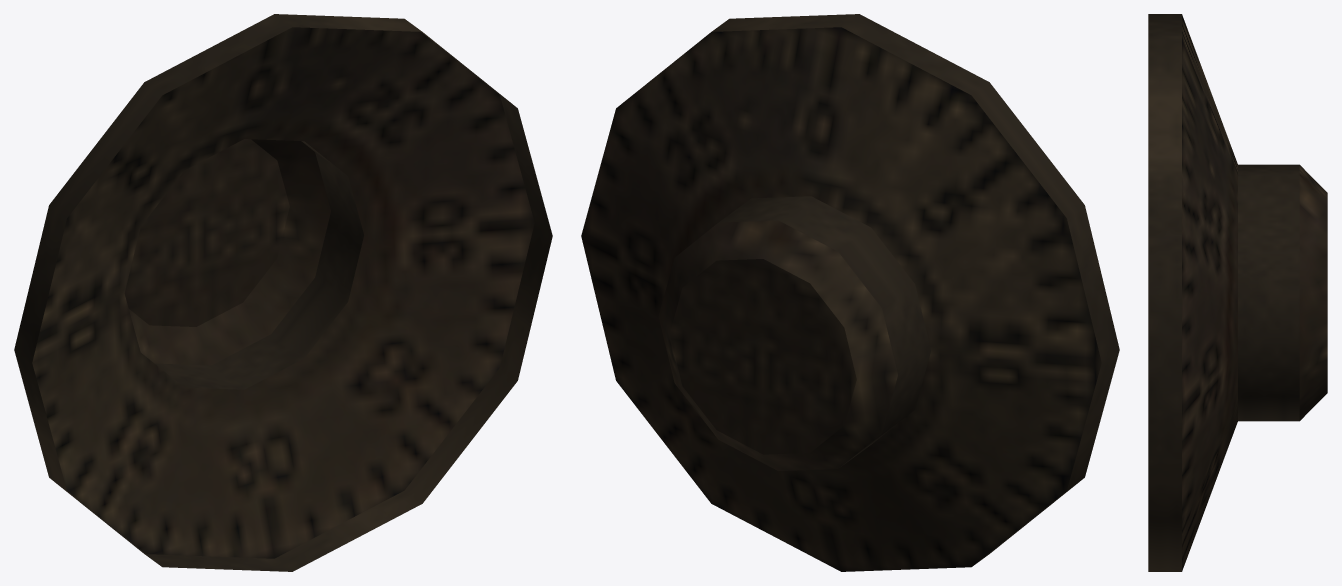
The model's file is padlock_3_knob.obj.
3 views of the same model, side by side, from view 1: azimuth 30°, elevation 25°; view 2: azimuth 150°, elevation 25°; view 3: azimuth 270°, elevation 25° (orthographic). The views are drawn at different scales.
Visible parts, largest first — view 1: padlock_3_knob; view 2: padlock_3_knob; view 3: padlock_3_knob.
Boxes of the visible parts, x1,y1,x2,y2 form: padlock_3_knob: (14, 14, 552, 571); padlock_3_knob: (581, 14, 1119, 571); padlock_3_knob: (1148, 14, 1327, 571).
Bounding box in the file's own units: 0.05 × 0.05 × 0.016.
